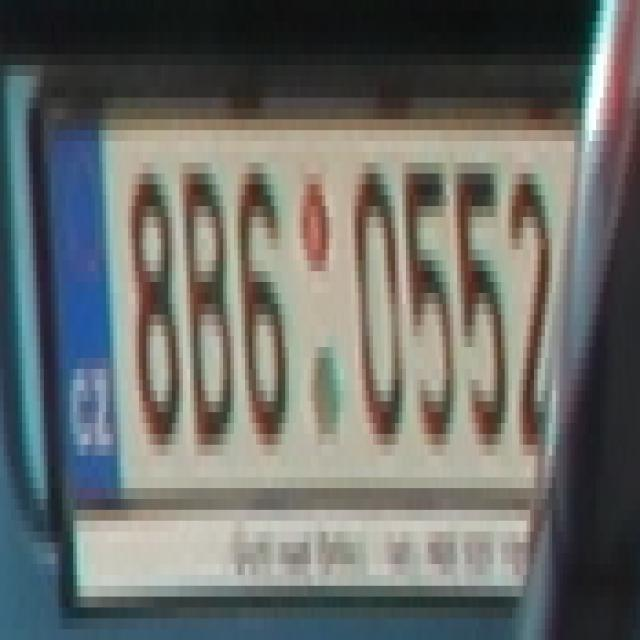0: (351, 174, 406, 456)
2: (504, 162, 548, 456)
5: (457, 162, 512, 456), (406, 152, 457, 434)
6: (241, 162, 289, 444)
8: (128, 162, 176, 424)
B: (179, 152, 234, 456)
